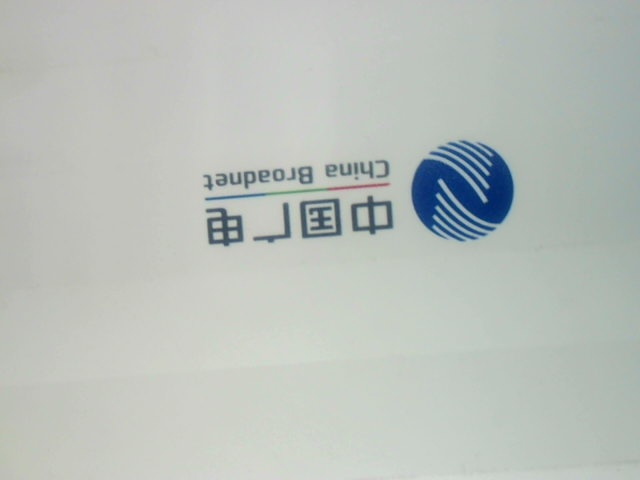AW_ChinaBroadNet: (193, 116, 521, 251)
